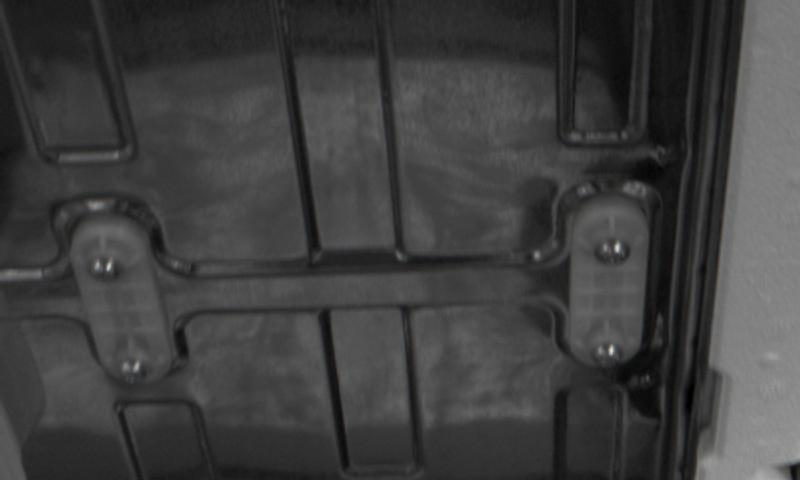vida-ok: (595, 231, 638, 276), (88, 248, 127, 293), (111, 351, 153, 391), (589, 336, 629, 374)
